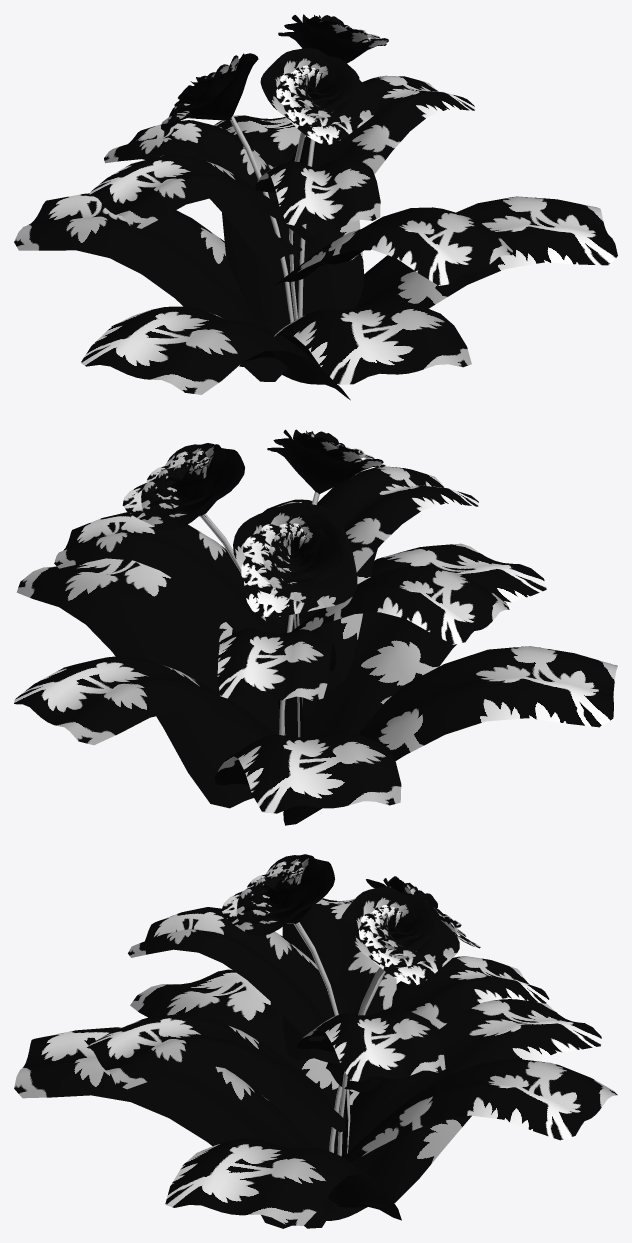
The model's file is SM_Flower_G.glb.
3 views of the same model, one above another, from view 1: azimuth 30°, elevation 25°; view 2: azimuth 150°, elevation 25°; view 3: azimuth 270°, elevation 25° (orthographic). The views are drawn at different scales.
Parts seen in each view (by area): view 1: SM_Flower_G_LOD0; view 2: SM_Flower_G_LOD0; view 3: SM_Flower_G_LOD0.
Part boxes in pixels (x1,y1,x2,y2): SM_Flower_G_LOD0: (14, 14, 617, 400); SM_Flower_G_LOD0: (14, 429, 617, 825); SM_Flower_G_LOD0: (14, 854, 617, 1228).
Size of the model in its own units: 1.25 by 0.7719 by 1.2.
1 material, 1 textured.
